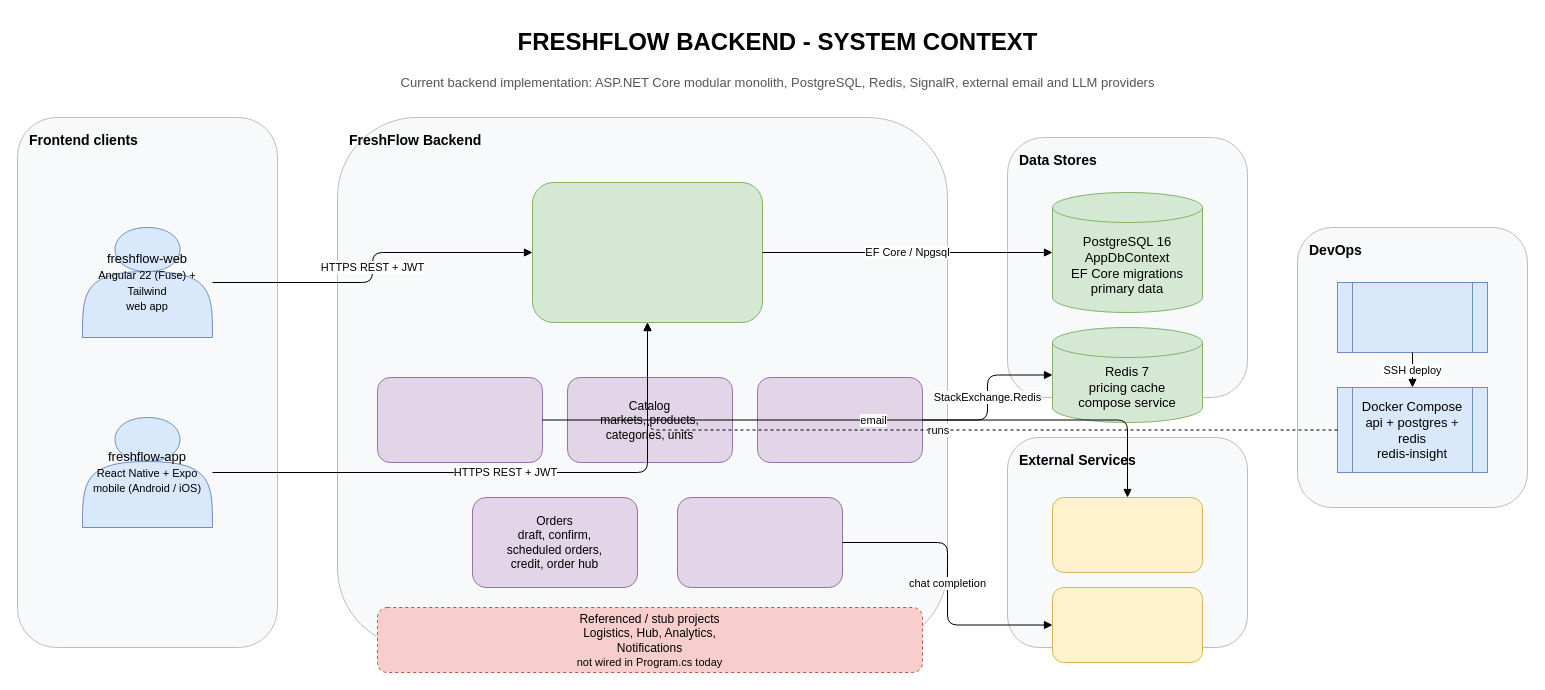
Some shapes in this 1545 by 690 pixel diagram are drawn without their labels. Each missing label, with the centre of its shape:
"AI Assistant host-layer orchestration MediatR tools + LLM" belongs at [759,542].
"Auth JWT, RBAC, refresh tokens, email verification, reset" belongs at [459,419].
"FreshFlow.API ASP.NET Core .NET 10 REST controllers SignalR hubs Hosted services" belongs at [647,252].
"GitHub Actions CD Dev VPS" belongs at [1412,317].
"Pricing market products, price history, cache, pricing hub" belongs at [839,419].
"Resend API email verification password reset" belongs at [1127,534].
"ZenMux API OpenAI-compatible LLM provider" belongs at [1127,624].
